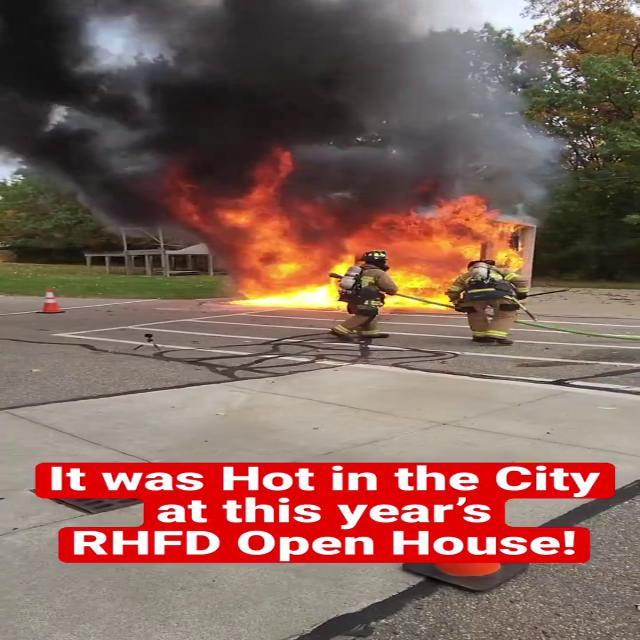Fire: (192, 191, 528, 311)
Smoke: (1, 0, 592, 202)
